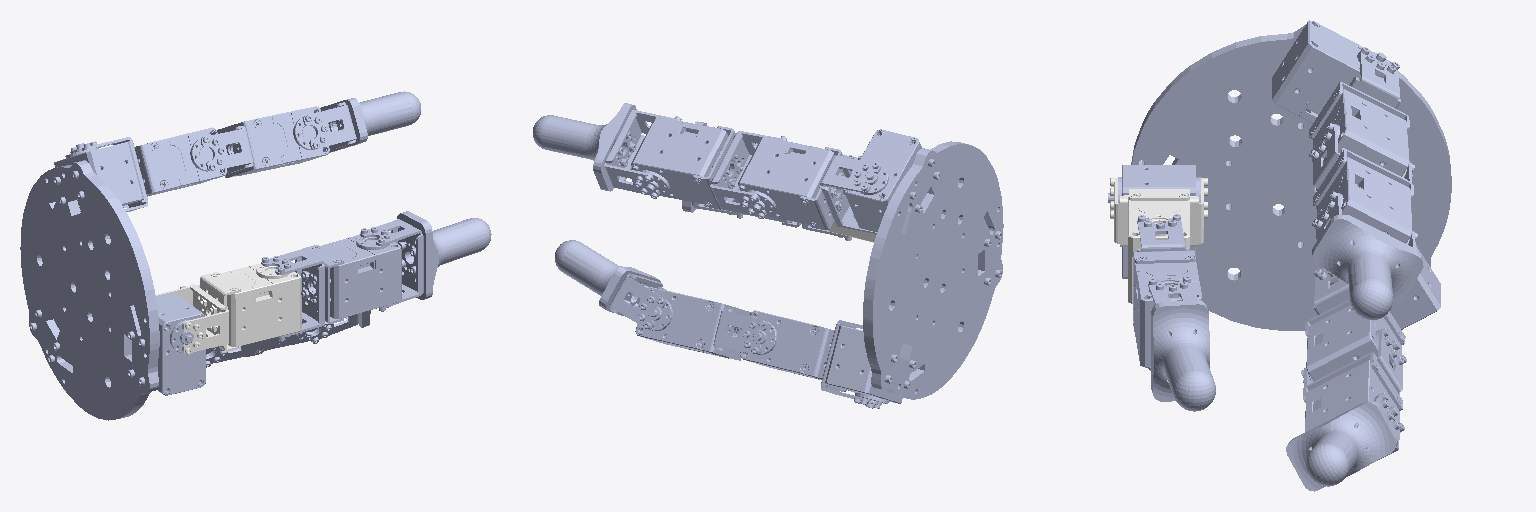
The robot description file, URDF, robot "DClaw":
<?xml version="1.0" encoding="utf-8"?>
<!-- This URDF was automatically created by SolidWorks to URDF Exporter! Originally created by [author] ([email redacted]) 
     Commit Version: 1.6.0-4-g7f85cfe  Build Version: 1.6.7995.38578
     For more information, please see http://wiki.ros.org/sw_urdf_exporter -->
<robot
  name="DClaw">
  <link
    name="base_link">
    <inertial>
      <origin
        xyz="0.026137 -0.13908 0.095138"
        rpy="0 0 0" />
      <mass
        value="0.23695" />
      <inertia
        ixx="0.00032097"
        ixy="-6.6887E-18"
        ixz="1.9851E-17"
        iyy="0.00016917"
        iyz="-1.3585E-07"
        izz="0.00016932" />
    </inertial>
    <visual>
      <origin
        xyz="0 0 0"
        rpy="0 0 0" />
      <geometry>
        <mesh
          filename="meshes_use/Base_link.obj" />
      </geometry>
      <material
        name="">
        <color
          rgba="0.79216 0.81961 0.93333 1" />
      </material>
    </visual>
    <collision> <!-- base_cylinder -->
      <origin
        xyz="0 0 0"
        rpy="0 0 0" />
      <geometry>
        <mesh
          filename="meshes_use/base_link_cylinder.obj" />
      </geometry>
    </collision>

    <collision> <!-- base_motor_1 -->
      <origin
        xyz="0.0345 -0.2 0.085"
        rpy="0 0 0" />
      <geometry>
        <box size="0.026 0.04 0.05"/>
      </geometry>
    </collision>
    
    <collision> <!-- base_motor_2 -->
      <origin
        xyz="0.0345 -0.097 0.049"
        rpy="-1.0472 0 0" />
      <geometry>
        <box size="0.026 0.04 0.05"/>
      </geometry>
    </collision>
    <collision> <!-- base_motor_3 -->
      <origin
        xyz="0.0345 -0.12 0.154"
        rpy="1.0472 0 0" />
      <geometry>
        <box size="0.026 0.04 0.05"/>
      </geometry>
    </collision>
  </link>





  <link
    name="Link1_1">
    <inertial>
      <origin
        xyz="0.0529307363803791 0.0385198768391719 -0.0233325145752905"
        rpy="0 0 0" />
      <mass
        value="0.0500997884947533" />
      <inertia
        ixx="8.46988226640586E-06"
        ixy="2.52536845571668E-08"
        ixz="4.35843902037739E-08"
        iyy="1.25184344824975E-05"
        iyz="-4.80451790682091E-07"
        izz="1.19676234178441E-05" />
    </inertial>
    <visual>
      <origin
        xyz="0 0 0"
        rpy="0 0 0" />
      <geometry>
        <mesh
          filename="meshes_use/Link1_1.obj" />
      </geometry>
      <material
        name="">
        <color
          rgba="0.792156862745098 0.819607843137255 0.933333333333333 1" />
      </material>
    </visual>
    <collision>  <!-- Link1_1 -->
      <origin
        xyz="0.055 0.038 -0.024"
        rpy="1.0472 0 0" />
      <geometry>
        <box size="0.056 0.038 0.03"/>
      </geometry>
    </collision>
    <collision>  <!-- Link1_1_side -->
      <origin
        xyz="0.013 0.022 -0.013"
        rpy="1.0472 0 0" />
      <geometry>
        <box size="0.03 0.024 0.01"/>
      </geometry>
    </collision>
    <collision>  
      <origin
        xyz="0.013 0.055 -0.032"
        rpy="1.0472 0 0" />
      <geometry>
        <box size="0.03 0.024 0.01"/>
      </geometry>
    </collision>
  </link>
  <joint
    name="Joint1_1"
    type="revolute">
    <origin
      xyz="0.033836 -0.086572 0.0038435"
      rpy="2.6178 0.014876 -0.025864" />
    <parent
      link="base_link" />
    <child
      link="Link1_1" />
    <axis
      xyz="0 0.86525 -0.50134" />
    <limit
      lower="-1.32"
      upper="0.524"
      effort="10"
      velocity="100" />
  </joint>
  <link
    name="Link2_1">
    <inertial>
      <origin
        xyz="0.042772791416322 0.026589664637582 -0.0163091170217141"
        rpy="0 0 0" />
      <mass
        value="0.0500997884947319" />
      <inertia
        ixx="1.01771982658268E-05"
        ixy="-2.01425290149011E-06"
        ixz="1.19578658191413E-06"
        iyy="1.15646942625028E-05"
        iyz="-2.37734720825577E-07"
        izz="1.12140476384129E-05" />
    </inertial>
    <visual>
      <origin
        xyz="0 0 0"
        rpy="0 0 0" />
      <geometry>
        <mesh
          filename="meshes_use/Link2_1.obj" />
      </geometry>
      <material
        name="">
        <color
          rgba="0.792156862745098 0.819607843137255 0.933333333333333 1" />
      </material>
    </visual>
    <collision>  <!-- Link2_1 -->
      <origin
        xyz="0.042 0.026 -0.0162"
        rpy="-0.3316 -0.4014 -0.89" />
      <geometry>
        <box size="0.03 0.054 0.038"/>
      </geometry>
    </collision>
    <collision>  <!-- Link2_1_side -->
      <origin
        xyz="0.01 0.017 0.015"
        rpy="-0.3316 -0.4014 -0.89" />
      <geometry>
        <box size="0.024 0.03 0.01"/>
      </geometry>
    </collision>
    <collision>  
      <origin
        xyz="0.01 -0.003 -0.02"
        rpy="-0.3316 -0.4014 -0.89" />
      <geometry>
        <box size="0.024 0.03 0.01"/>
      </geometry>
    </collision>
  </link>
  <joint
    name="Joint2_1"
    type="revolute">
    <origin
      xyz="0.068497 0.038635 -0.023133"
      rpy="0.085364 -0.30753 -0.57541" />
    <parent
      link="Link1_1" />
    <child
      link="Link2_1" />
    <axis
      xyz="0.009437 0.50132 0.86521" />
    <limit
      lower="-1.57"
      upper="1.57"
      effort="10"
      velocity="100" />
  </joint>
  <link
    name="Link3_1">
    <inertial>
      <origin
        xyz="0.0442903087940754 -0.000239198916252412 0.00034461478971537"
        rpy="0 0 0" />
      <mass
        value="0.0260028886170262" />
      <inertia
        ixx="3.47766071448909E-06"
        ixy="2.11116847505688E-08"
        ixz="-2.83202987068677E-08"
        iyy="8.31543259135555E-06"
        iyz="6.45313369832249E-07"
        izz="7.56503514497011E-06" />
    </inertial>
    <visual>
      <origin
        xyz="0 0 0"
        rpy="0 0 0" />
      <geometry>
        <mesh
          filename="meshes_use/Link3_1.obj" />
      </geometry>
      <material
        name="">
        <color
          rgba="0.792156862745098 0.819607843137255 0.933333333333333 1" />
      </material>
    </visual>
    <collision>  <!-- Link3_1 -->
      <origin
        xyz="0 0 0"
        rpy="0 0 0" />
      <geometry>
        <mesh
          filename="meshes_use/link3_1_C.obj" />
      </geometry>
    </collision>
    <collision>  <!-- Link3_1_side -->
      <origin
        xyz="0.013 -0.01 0.018"
        rpy="0.524 0 0" />
      <geometry>
        <box size="0.03 0.024 0.01"/>
      </geometry>
    </collision>
    <collision>  
      <origin
        xyz="0.013 0.011 -0.018"
        rpy="0.524 0 0" />
      <geometry>
        <box size="0.03 0.024 0.01"/>
      </geometry>
    </collision>
  </link>
  <joint
    name="Joint3_1"
    type="revolute">
    <origin
      xyz="0.055352 0.034651 -0.020681"
      rpy="-0.85342 0.42531 0.84594" />
    <parent
      link="Link2_1" />
    <child
      link="Link3_1" />
    <axis
      xyz="0.009437 0.49863 -0.86676" />
    <limit
      lower="-1.57"
      upper="1.57"
      effort="10"
      velocity="100" />
  </joint>





  <link
    name="Link1_2">
    <inertial>
      <origin
        xyz="0.0529307363804316 0.00765586742462304 -0.00544929173954749"
        rpy="0 0 0" />
      <mass
        value="0.0500997884944988" />
      <inertia
        ixx="8.46988226640579E-06"
        ixy="2.52536845466873E-08"
        ixz="4.35843902172771E-08"
        iyy="1.25184344824698E-05"
        iyz="-4.80451790692476E-07"
        izz="1.19676234178535E-05" />
    </inertial>
    <visual>
      <origin
        xyz="0 0 0"
        rpy="0 0 0" />
      <geometry>
        <mesh
          filename="meshes_use/Link1_2.obj" />
      </geometry>
      <material
        name="">
        <color
          rgba="0.792156862745098 0.819607843137255 0.933333333333333 1" />
      </material>
    </visual>
    <collision>  <!-- Link1_2 -->
      <origin
        xyz="0.052 0.008 -0.006"
        rpy="-0.524 0 0" />
      <geometry>
        <box size="0.056 0.03 0.038"/>
      </geometry>
    </collision>
    <collision>  <!-- Link1_2_side -->
      <origin
        xyz="0.012 -0.008 0.005"
        rpy="-0.524 0 0" />
      <geometry>
        <box size="0.03 0.01 0.024"/>
      </geometry>
    </collision>
    <collision> 
      <origin
        xyz="0.012 0.025 -0.015"
        rpy="-0.524 0 0" />
      <geometry>
        <box size="0.03 0.01 0.024"/>
      </geometry>
    </collision>
  </link>
  <joint
    name="Joint1_2"
    type="revolute">
    <origin
      xyz="0.033836 -0.11353 0.13927"
      rpy="1.571 0.014928 0.025769" />
    <parent
      link="base_link" />
    <child
      link="Link1_2" />
    <axis
      xyz="0 0.86525 -0.50134" />
    <limit
      lower="-0.524"
      upper="1.35"
      effort="10"
      velocity="100" />
  </joint>
  <link
    name="Link2_2">
    <inertial>
      <origin
        xyz="0.0427727914164529 0.0265896646374586 -0.016309117021747"
        rpy="0 0 0" />
      <mass
        value="0.050099788494456" />
      <inertia
        ixx="1.01771982658377E-05"
        ixy="-2.01425290148224E-06"
        ixz="1.19578658193044E-06"
        iyy="1.15646942624709E-05"
        iyz="-2.37734720827873E-07"
        izz="1.12140476384109E-05" />
    </inertial>
    <visual>
      <origin
        xyz="0 0 0"
        rpy="0 0 0" />
      <geometry>
        <mesh
          filename="meshes_use/Link2_2.obj" />
      </geometry>
      <material
        name="">
        <color
          rgba="0.792156862745098 0.819607843137255 0.933333333333333 1" />
      </material>
    </visual>
    <collision> <!-- Link2_2 -->
      <origin
        xyz="0.043 0.027 -0.015"
        rpy="-0.436 0.297 0.558" />
      <geometry>
        <box size="0.056 0.03 0.038"/>
      </geometry>
    </collision>
    <collision> <!-- Link2_2_side -->
      <origin
        xyz="0.01 -0.003 -0.019"
        rpy="-0.436 0.297 0.558" />
      <geometry>
        <box size="0.03 0.024 0.01"/>
      </geometry>
    </collision>
    <collision> 
      <origin
        xyz="0.01 0.017 0.015"
        rpy="-0.436 0.297 0.558" />
      <geometry>
        <box size="0.03 0.024 0.01"/>
      </geometry>
    </collision>
  </link>
  <joint
    name="Joint2_2"
    type="revolute">
    <origin
      xyz="0.068497 0.0077714 -0.00525"
      rpy="0.089096 -0.31316 -0.58804" />
    <parent
      link="Link1_2" />
    <child
      link="Link2_2" />
    <axis
      xyz="0.009437 0.50132 0.86521" />
    <limit
      lower="-1.57"
      upper="1.57"
      effort="10"
      velocity="100" />
  </joint>
  <link
    name="Link3_2">
    <inertial>
      <origin
        xyz="0.0442903093046455 -0.000239206569714906 0.000344612821146173"
        rpy="0 0 0" />
      <mass
        value="0.0260028959491832" />
      <inertia
        ixx="3.47766133368847E-06"
        ixy="2.11100347282574E-08"
        ixz="-2.83208731773161E-08"
        iyy="8.3154334525292E-06"
        iyz="6.45312461662716E-07"
        izz="7.56503448656785E-06" />
    </inertial>
    <visual>
      <origin
        xyz="0 0 0"
        rpy="0 0 0" />
      <geometry>
        <mesh
          filename="meshes_use/Link3_2.obj" />
      </geometry>
      <material
        name="">
        <color
          rgba="0.792156862745098 0.819607843137255 0.933333333333333 1" />
      </material>
    </visual>
    <collision> <!-- Link3_2 -->
      <origin
        xyz="0 0 0"
        rpy="0 0 0" />
      <geometry>
        <mesh
          filename="meshes_use/link3_2_C.obj" />
      </geometry>
    </collision>
    <collision> <!-- Link3_2_side -->
      <origin
        xyz="0.013 0.011 -0.02"
        rpy="0.524 0 0" />
      <geometry>
        <box size="0.03 0.024 0.01"/>
      </geometry>
    </collision>
    <collision> 
      <origin
        xyz="0.013 -0.01 0.018"
        rpy="0.524 0 0" />
      <geometry>
        <box size="0.03 0.024 0.01"/>
      </geometry>
    </collision>
  </link>
  <joint
    name="Joint3_2"
    type="revolute">
    <origin
      xyz="0.055352 0.034651 -0.020681"
      rpy="-0.94339 0.33385 0.59814" />
    <parent
      link="Link2_2" />
    <child
      link="Link3_2" />
    <axis
      xyz="0.009437 0.49863 -0.86676" />
    <limit
      lower="-1.57"
      upper="1.57"
      effort="10"
      velocity="100" />
  </joint>





  <link
    name="Link1_3">
    <inertial>
      <origin
        xyz="0 0 0"
        rpy="0 0 0" />
      <mass
        value="0" />
      <inertia
        ixx="0"
        ixy="0"
        ixz="0"
        iyy="0"
        iyz="0"
        izz="0" />
    </inertial>
    <visual>
      <origin
        xyz="0 0 0"
        rpy="0 0 0" />
      <geometry>
        <mesh
          filename="meshes_use/Link1_3.obj" />
      </geometry>
      <material
        name="">
        <color
          rgba="1 1 1 1" />
      </material>
    </visual>
    <collision> <!-- Link1_3 -->
      <origin
        xyz="0.053 -0.03 0.015"
        rpy="-0.524 0 0" />
      <geometry>
        <box size="0.056 0.03 0.04"/>
      </geometry>
    </collision>
    <collision> <!-- Link1_3_side -->
      <origin
        xyz="0.013 -0.012 0.007"
        rpy="-0.524 0 0" />
      <geometry>
        <box size="0.03 0.01 0.024"/>
      </geometry>
    </collision>
    <collision> 
      <origin
        xyz="0.013 -0.045 0.025"
        rpy="-0.524 0 0" />
      <geometry>
        <box size="0.03 0.01 0.024"/>
      </geometry>
    </collision>
  </link>
  <joint
    name="Joint1_3"
    type="revolute">
    <origin
      xyz="0.033836 -0.16663 0.095224"
      rpy="0.5236 -0.013932 2.1609E-05" />
    <parent
      link="base_link" />
    <child
      link="Link1_3" />
    <axis
      xyz="0 0.86525 -0.50134" />
    <limit
      lower="-1.35"
      upper="0.524"
      effort="10"
      velocity="100" />
  </joint>
  <link
    name="Link2_3">
    <inertial>
      <origin
        xyz="0.0427727914163404 0.0265896646374374 -0.0163091170218451"
        rpy="0 0 0" />
      <mass
        value="0.0500997884940055" />
      <inertia
        ixx="1.01771982657949E-05"
        ixy="-2.01425290150859E-06"
        ixz="1.19578658193342E-06"
        iyy="1.15646942624502E-05"
        iyz="-2.37734720844503E-07"
        izz="1.1214047638349E-05" />
    </inertial>
    <visual>
      <origin
        xyz="0 0 0"
        rpy="0 0 0" />
      <geometry>
        <mesh
          filename="meshes_use/Link2_3.obj" />
      </geometry>
      <material
        name="">
        <color
          rgba="0.792156862745098 0.819607843137255 0.933333333333333 1" />
      </material>
    </visual>
    <collision> <!-- Link2_3 -->
      <origin
        xyz="0.045 0.028 -0.017"
        rpy="-0.419 0.279 0.576" />
      <geometry>
        <box size="0.056 0.03 0.04"/>
      </geometry>
    </collision>
    <collision> <!-- Link2_3_side -->
      <origin
        xyz="0.01 0.018 0.014"
        rpy="-0.419 0.279 0.576" />
      <geometry>
        <box size="0.03 0.024 0.01"/>
      </geometry>
    </collision>
    <collision> 
      <origin
        xyz="0.011 -0.005 -0.023"
        rpy="-0.419 0.279 0.576" />
      <geometry>
        <box size="0.03 0.024 0.01"/>
      </geometry>
    </collision>
  </link>
  <joint
    name="Joint2_3"
    type="revolute">
    <origin
      xyz="0.068497 -0.028696 0.01588"
      rpy="0.063109 -0.26992 -0.49445" />
    <parent
      link="Link1_3" />
    <child
      link="Link2_3" />
    <axis
      xyz="0.009437 0.50132 0.86521" />
    <limit
      lower="-1.57"
      upper="1.57"
      effort="10"
      velocity="100" />
  </joint>
  <link
    name="Link3_3">
    <inertial>
      <origin
        xyz="0.0442903089361738 -0.000239208986878653 0.000344609604304449"
        rpy="0 0 0" />
      <mass
        value="0.0260028939266903" />
      <inertia
        ixx="3.47766127714631E-06"
        ixy="2.11094770759259E-08"
        ixz="-2.83214952644635E-08"
        iyy="8.31543405300118E-06"
        iyz="6.45312344442177E-07"
        izz="7.56503402448085E-06" />
    </inertial>
    <visual>
      <origin
        xyz="0 0 0"
        rpy="0 0 0" />
      <geometry>
        <mesh
          filename="meshes_use/Link3_3.obj" />
      </geometry>
      <material
        name="">
        <color
          rgba="0.792156862745098 0.819607843137255 0.933333333333333 1" />
      </material>
    </visual>
    <collision> <!-- Link3_3 -->
      <origin
        xyz="0 0 0"
        rpy="0 0 0" />
      <geometry>
        <mesh
          filename="meshes_use/link3_3_C.obj" />
      </geometry>
    </collision>
    <collision> <!-- Link3_3_side -->
      <origin
        xyz="0.013 -0.011 0.019"
        rpy="0.524 0 0" />
      <geometry>
        <box size="0.03 0.024 0.01"/>
      </geometry>
    </collision>
    <collision> 
      <origin
        xyz="0.013 0.01 -0.019"
        rpy="0.524 0 0" />
      <geometry>
        <box size="0.03 0.024 0.01"/>
      </geometry>
    </collision>
  </link>
  <joint
    name="Joint3_3"
    type="revolute">
    <origin
      xyz="0.055352 0.034651 -0.020681"
      rpy="2.212 0.33079 0.64036" />
    <parent
      link="Link2_3" />
    <child
      link="Link3_3" />
    <axis
      xyz="0.009437 0.49863 -0.86676" />
    <limit
      lower="-1.57"
      upper="1.57"
      effort="10"
      velocity="100" />
  </joint>
</robot>

--- What the picture shows (computed from the rendered views, not written in the file) ---
The picture shows the robot from 3 angles, left to right: view 1: azimuth 30°, elevation 25°; view 2: azimuth 150°, elevation 25°; view 3: azimuth 270°, elevation 25°; orthographic projection.
Model DClaw with 10 links and 9 joints (9 revolute), rooted at base_link, posed every joint at zero.
Visible links, largest first — view 1: base_link, Link2_3, Link1_3, Link2_2, Link3_3, Link1_2, Link3_2, Link2_1, Link3_1; view 2: base_link, Link2_2, Link1_2, Link3_2, Link2_1, Link3_1, Link1_1; view 3: base_link, Link3_2, Link1_2, Link3_3, Link2_2, Link3_1, Link1_1, Link2_1, Link2_3, Link1_3.
Link boxes in pixels (box(x1,y1,x2,y2)): base_link: box(20, 142, 205, 420); Link2_3: box(261, 234, 401, 340); Link1_3: box(156, 263, 301, 354); Link2_2: box(201, 106, 329, 177); Link3_3: box(360, 211, 491, 311); Link1_2: box(70, 127, 227, 211); Link3_2: box(303, 91, 420, 152); Link2_1: box(180, 285, 319, 367); Link3_1: box(310, 310, 370, 343); base_link: box(825, 129, 1003, 408); Link2_2: box(631, 117, 786, 218); Link1_2: box(738, 137, 880, 233); Link3_2: box(533, 103, 681, 198); Link2_1: box(635, 287, 767, 360); Link3_1: box(555, 240, 666, 329); Link1_1: box(740, 310, 881, 408); base_link: box(1108, 20, 1451, 330); Link3_2: box(1312, 191, 1423, 319); Link1_2: box(1309, 47, 1409, 177); Link3_3: box(1148, 276, 1215, 411); Link2_2: box(1309, 123, 1414, 244); Link3_1: box(1286, 392, 1404, 491); Link1_1: box(1305, 269, 1405, 382); Link2_1: box(1301, 328, 1406, 459); Link2_3: box(1133, 214, 1201, 367); Link1_3: box(1110, 178, 1207, 303).
Size in the robot's own frame: 0.2436 by 0.1575 by 0.161 metres.
Meshes: 10 distinct files referenced, 10 mesh visuals loaded (10 OBJ).
